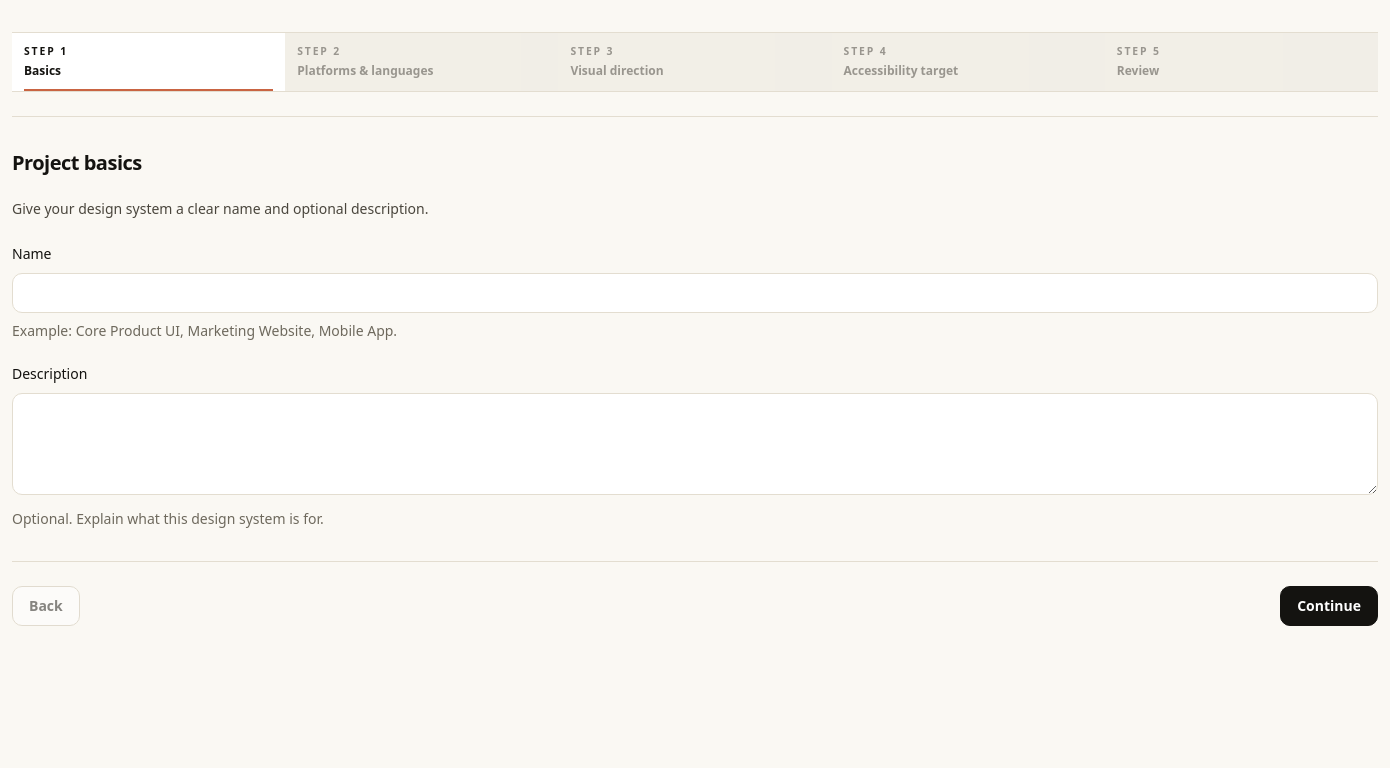
Test: CreateDesignSystemWizard › requires the review step before submitting the project creation
In the field labelled "Name": (695, 293) [12,273,1378,313], type "Aurora System"
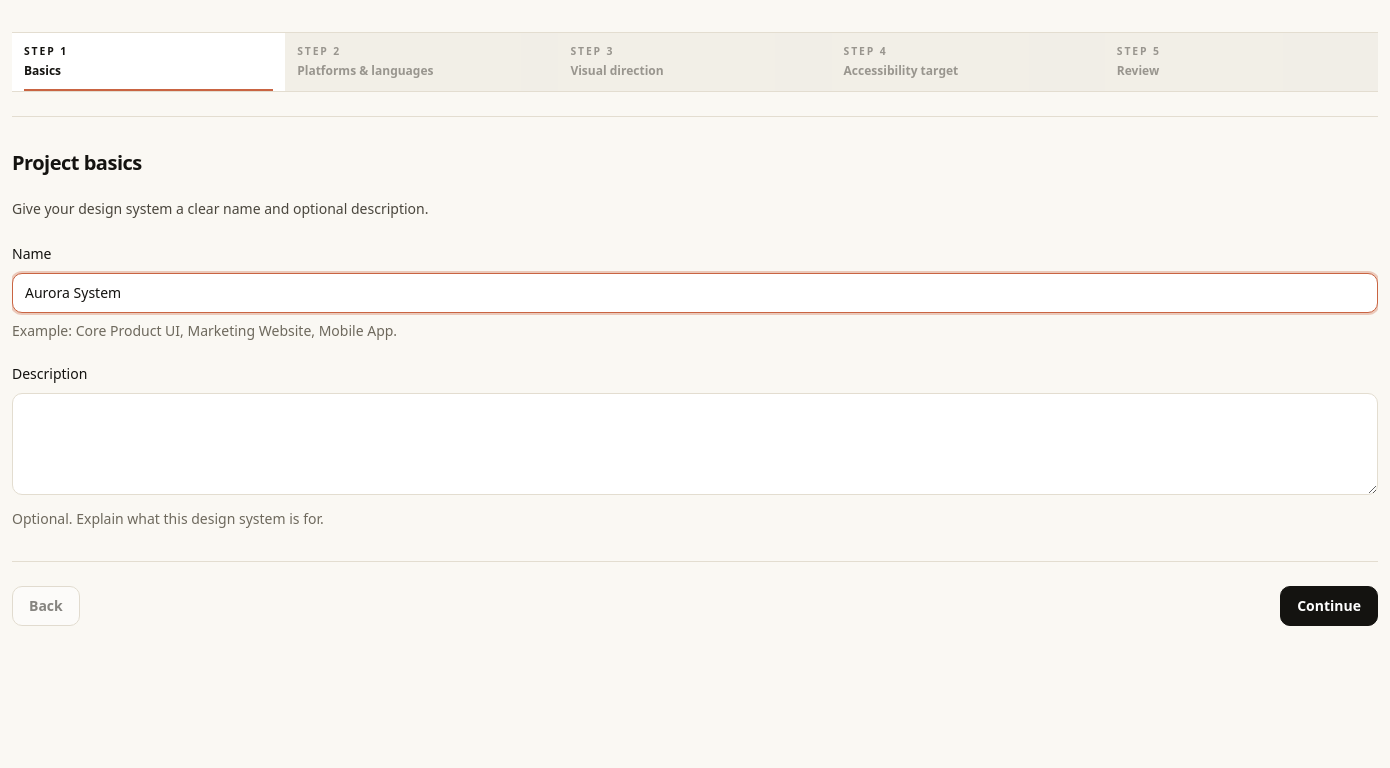
Click the button "Continue": (1329, 606) [1280,586,1378,626]
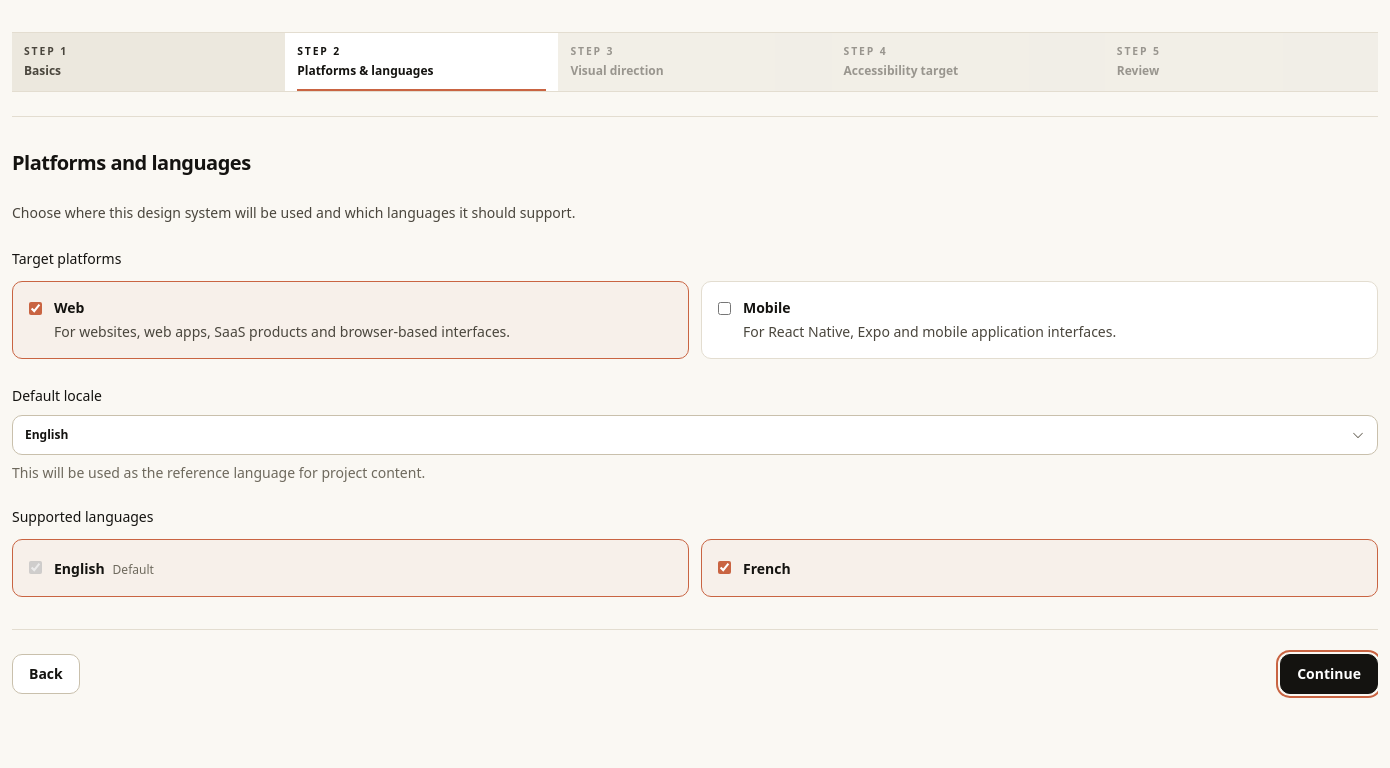
expect the element "Platforms and languages" is shown: met, box [12,149,1378,597]
